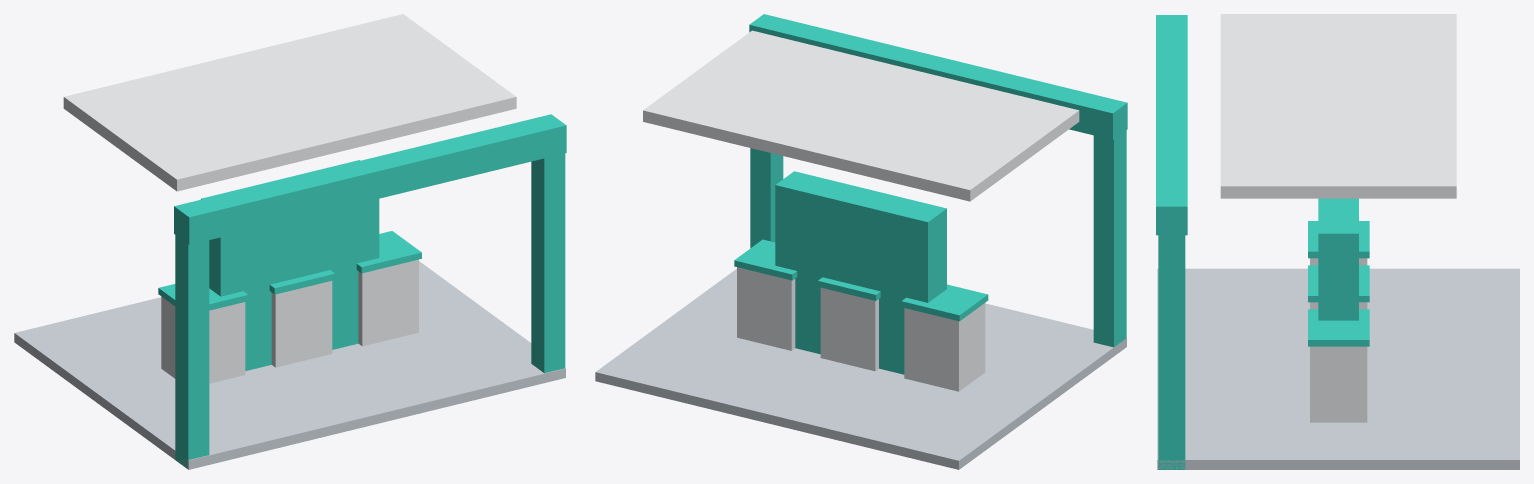
The picture shows the model from 3 angles, left to right: view 1: azimuth 30°, elevation 25°; view 2: azimuth 150°, elevation 25°; view 3: azimuth 270°, elevation 25°; orthographic projection. The views are drawn at different scales.
Parts seen in each view (by area): view 1: Exhibition Booth Concept; view 2: Exhibition Booth Concept; view 3: Exhibition Booth Concept.
Part boxes in pixels (left/top/right/bottom): Exhibition Booth Concept: left=14, top=14, right=566, bottom=469; Exhibition Booth Concept: left=595, top=14, right=1127, bottom=469; Exhibition Booth Concept: left=1156, top=14, right=1519, bottom=469.
Size of the model in its own units: 5 by 3.34 by 4.02.
